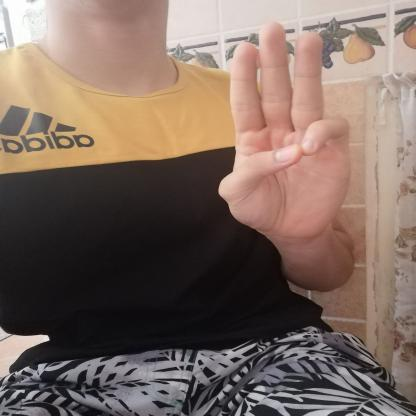THA: (197, 11, 369, 250)
